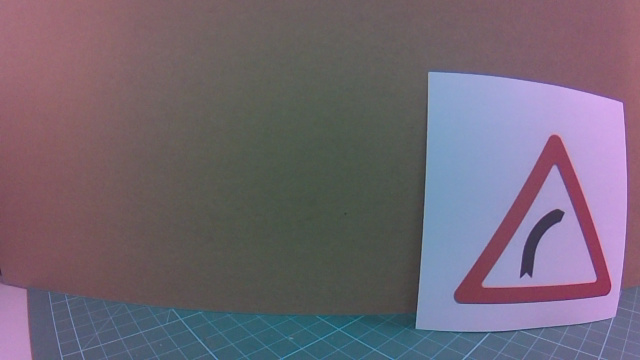right: (432, 143, 610, 319)
